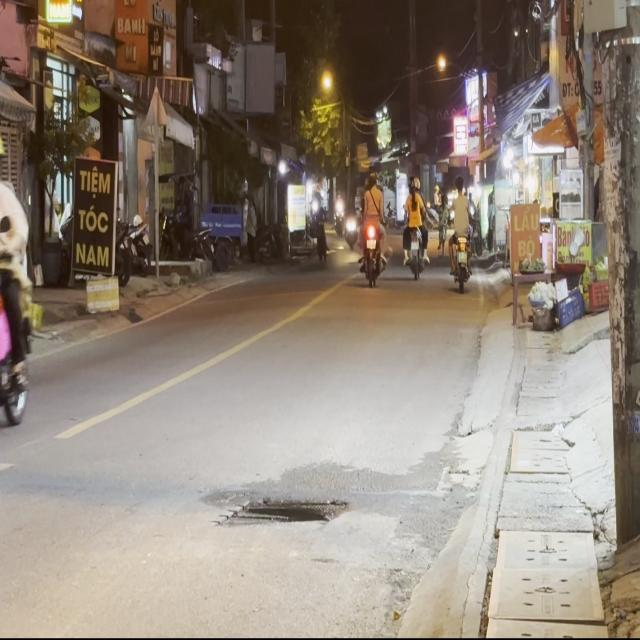helmet: (0, 130, 5, 178)
licenseplate: (0, 130, 36, 441)
